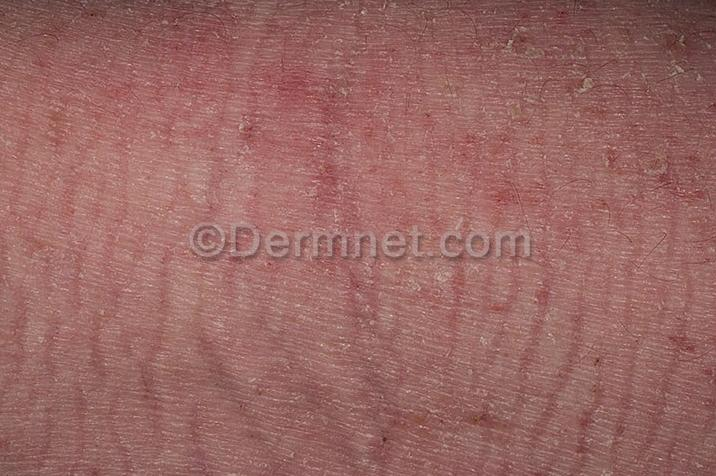eritema 1: (0, 0, 716, 476)
liquenificacion 1: (0, 0, 716, 476)
xerosis 3: (0, 0, 713, 476)
